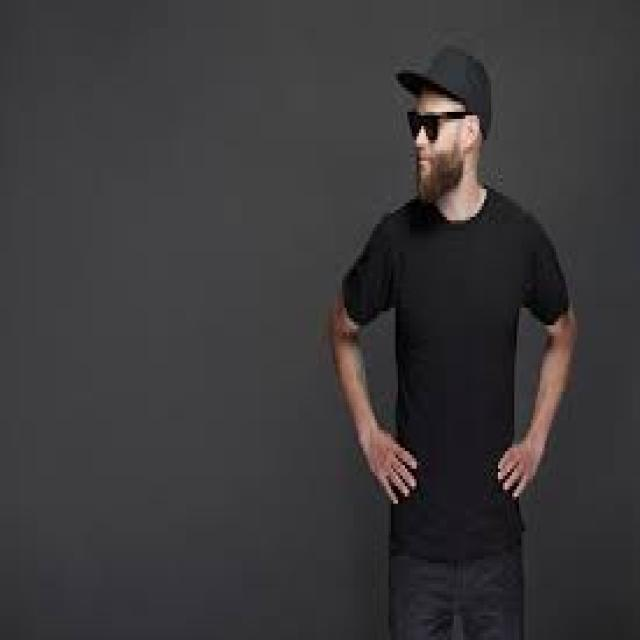cap: (393, 42, 498, 199)
